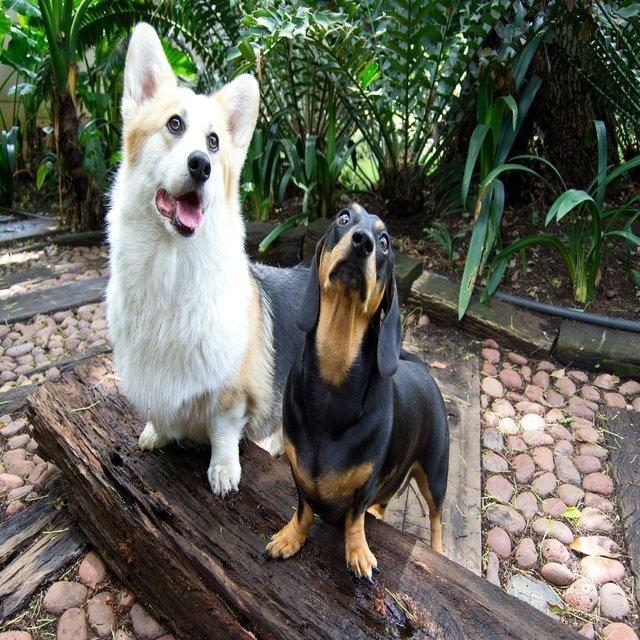corgi: (102, 20, 312, 497)
